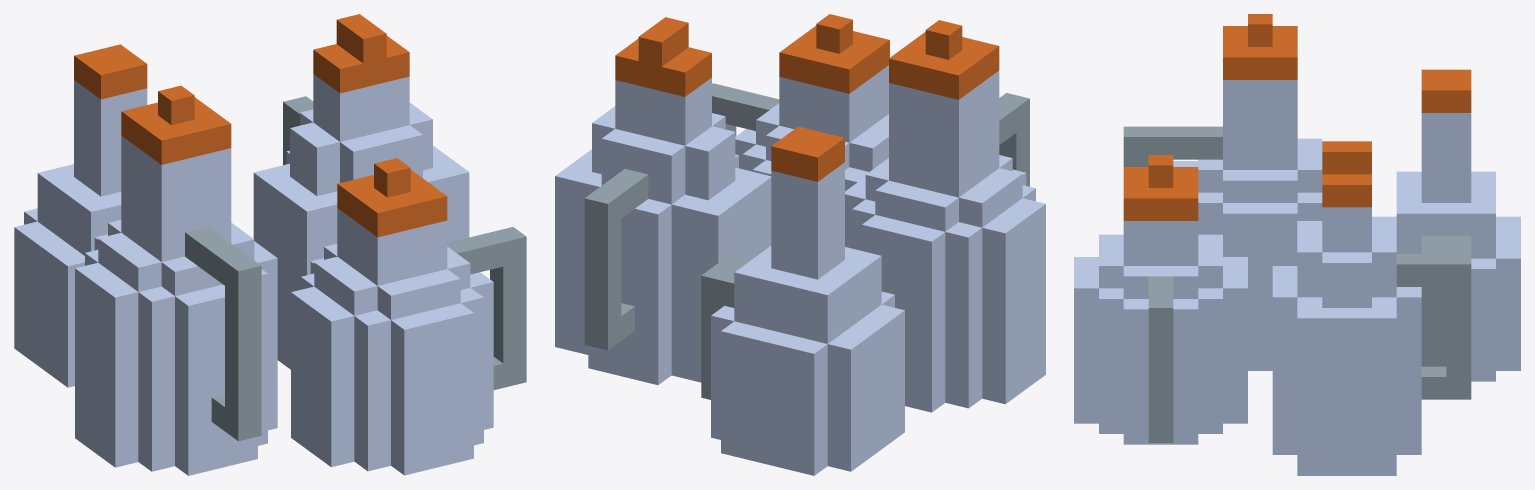
File: gorilka.obj
3 views of the same model, side by side, from view 1: azimuth 30°, elevation 25°; view 2: azimuth 150°, elevation 25°; view 3: azimuth 270°, elevation 25° (orthographic). The views are drawn at different scales.
Size of the model in its own units: 1.7 by 1.4 by 1.8.
Materials: 1 (1 with a texture image).
